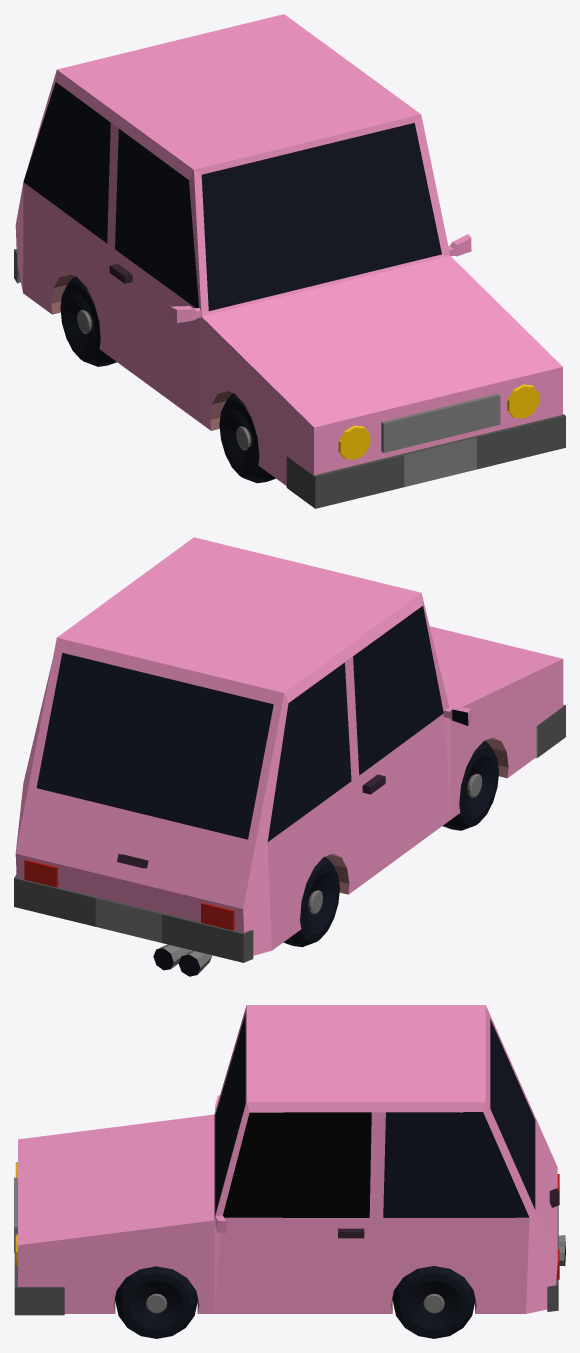
The model's file is beach_car.fbx.
The picture shows the model from 3 angles, top to bottom: view 1: azimuth 30°, elevation 25°; view 2: azimuth 150°, elevation 25°; view 3: azimuth 270°, elevation 25°; orthographic projection. The views are drawn at different scales.
Visible parts, largest first — view 1: Cube.001, Cube.002; view 2: Cube.001, Cube.002, Cylinder; view 3: Cube.001, Cube.002.
Boxes of the visible parts, x1,y1,x2,y2 form: Cube.001: [14, 14, 565, 508]; Cube.002: [60, 276, 275, 483]; Cube.001: [14, 537, 565, 962]; Cube.002: [283, 741, 498, 947]; Cylinder: [153, 944, 212, 976]; Cube.001: [14, 1005, 559, 1315]; Cube.002: [115, 1266, 475, 1338].
Size of the model in its own units: 1196 by 1049 by 2197.
